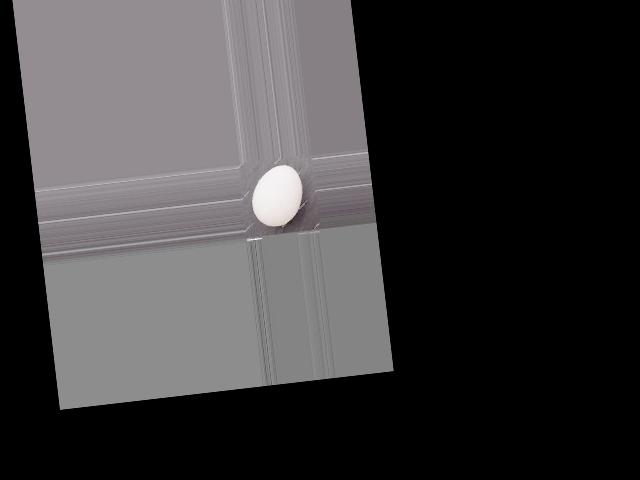egg: (248, 163, 306, 228)
